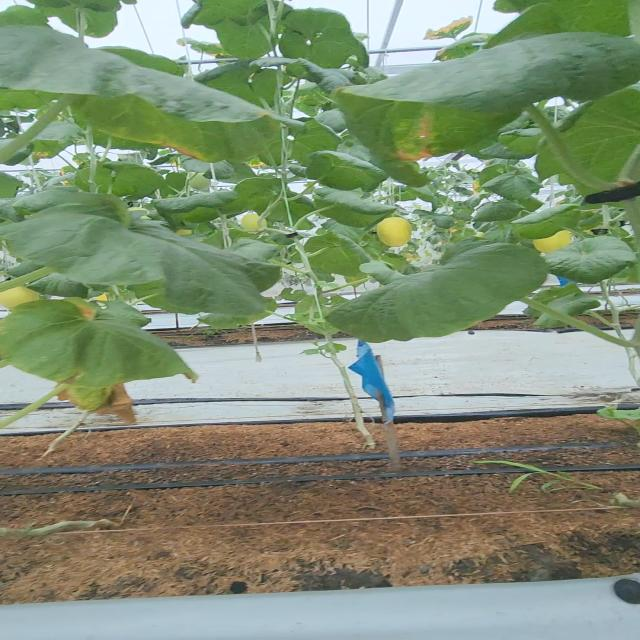Rear-melon: (377, 218, 411, 247)
